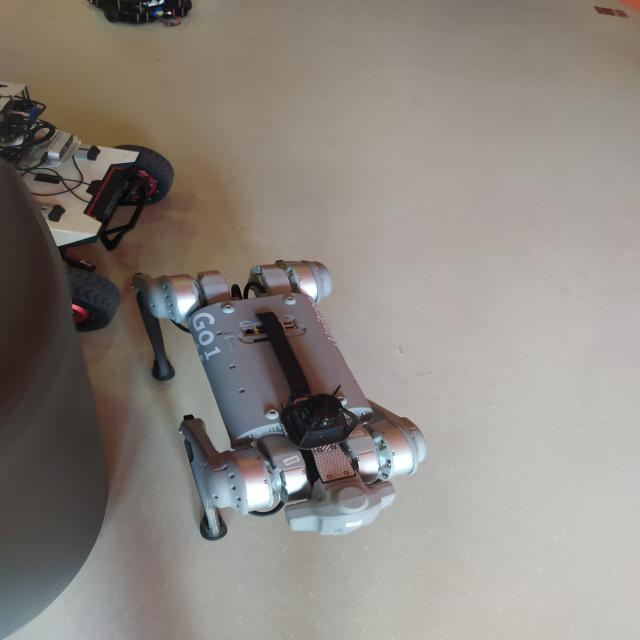unitree-go1-robot: (108, 243, 456, 554)
